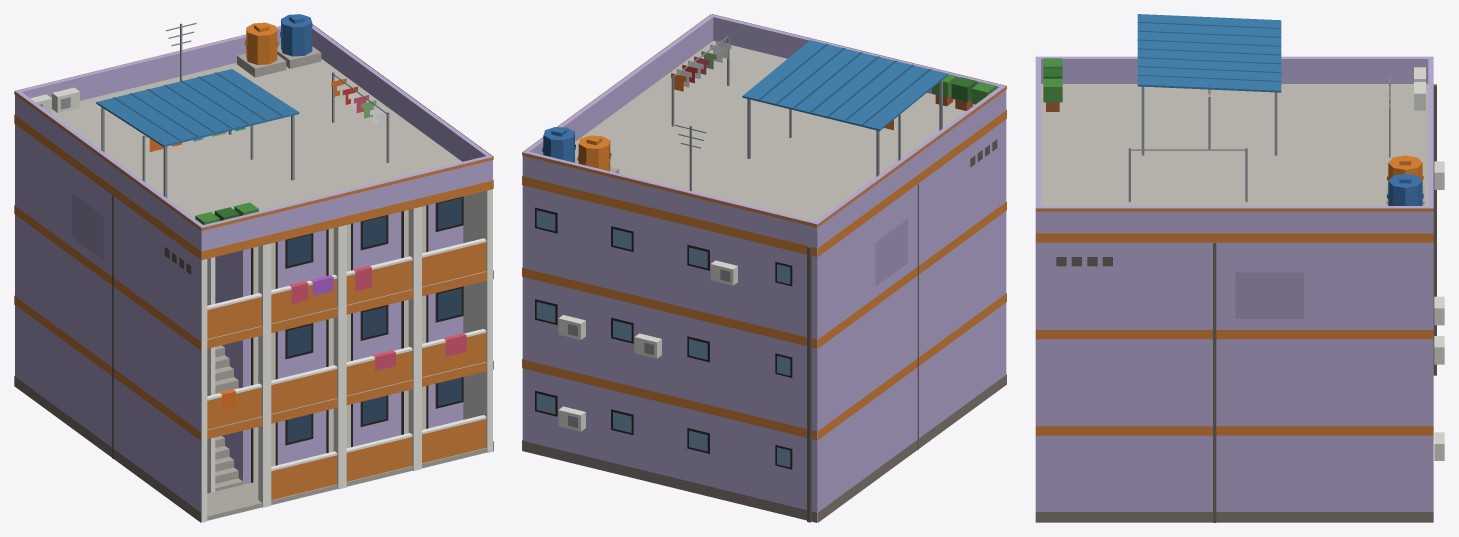
File: kos_06.glb
3 renders of one model, left to right at view 1: azimuth 30°, elevation 25°; view 2: azimuth 150°, elevation 25°; view 3: azimuth 270°, elevation 25°, orthographic. The views are drawn at different scales.
Parts seen in each view (by area): view 1: kos_06; view 2: kos_06; view 3: kos_06.
Part boxes in pixels (x1,y1,x2,y2): kos_06: (14,14,493,522); kos_06: (522,14,1006,522); kos_06: (1035,14,1444,522).
Size of the model in its own units: 10.51 by 11.7 by 11.94.
